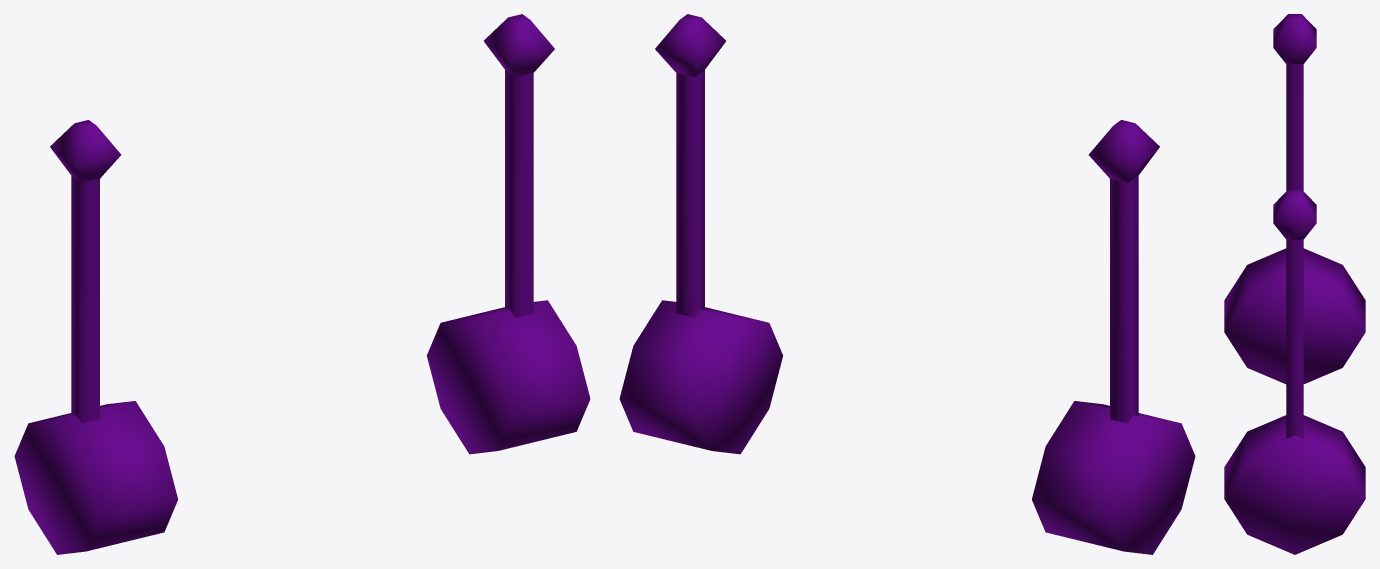
Rendered from cascos antena.fbx.
3 renders of one model, left to right at view 1: azimuth 30°, elevation 25°; view 2: azimuth 150°, elevation 25°; view 3: azimuth 270°, elevation 25°, orthographic. The views are drawn at different scales.
Visible parts, largest first — view 1: Plane.001; view 2: Plane.001; view 3: Plane.001.
Boxes of the visible parts, x1=… form: Plane.001: x1=14, y1=14, x2=590, y2=554; Plane.001: x1=619, y1=14, x2=1195, y2=554; Plane.001: x1=1224, y1=14, x2=1365, y2=554.
Bounding box in the file's own units: 210 × 173 × 63.13.
